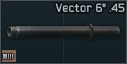KRISS Vector .45 ACP 6 inch barrel: (0, 0, 127, 64)
